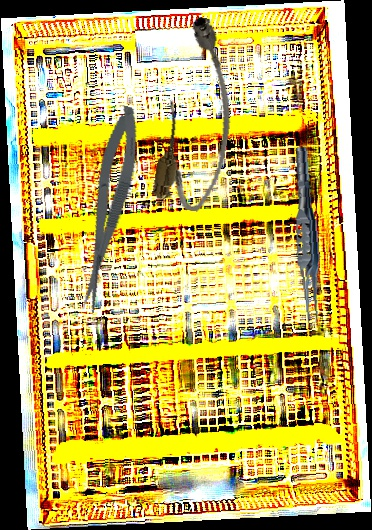Cannula: (150, 14, 248, 215)
Micro Scissor: (66, 103, 149, 315)
Tissue Forceps: (287, 146, 327, 328)
